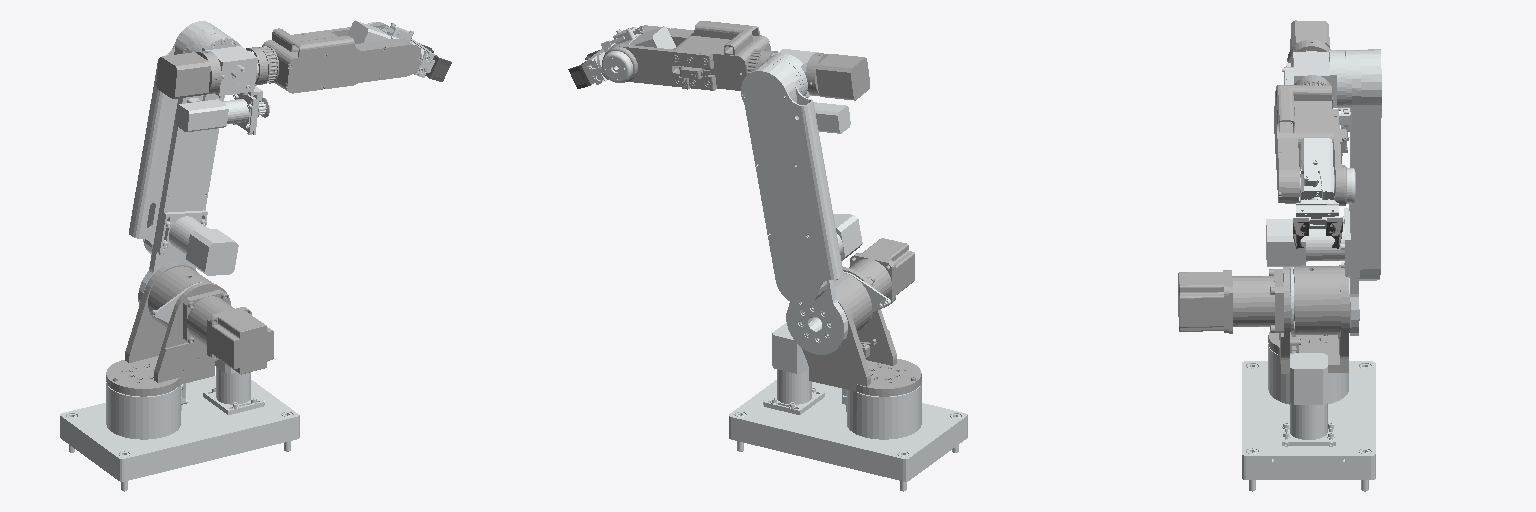
The robot description file, URDF, robot "AR2_Robot_Assembly":
<?xml version="1.0" encoding="utf-8"?>
<!-- This URDF was automatically created by SolidWorks to URDF Exporter! Originally created by [author] ([email redacted]) 
     Commit Version: 1.6.0-1-g15f4949  Build Version: 1.6.7594.29634
     For more information, please see http://wiki.ros.org/sw_urdf_exporter -->
<robot
  name="AR2_Robot_Assembly">
  <link
    name="Base">
    <inertial>
      <origin
        xyz="-0.00121164895533463 2.07098250545094E-07 0.0328380871448753"
        rpy="0 0 0" />
      <mass
        value="1.83399446560583" />
      <inertia
        ixx="0.00350534103411268"
        ixy="-1.31663156810717E-08"
        ixz="-6.3405344464182E-06"
        iyy="0.00791941936280033"
        iyz="1.28083660702137E-08"
        izz="0.0111560797891637" />
    </inertial>
    <visual>
      <origin
        xyz="0 0 0"
        rpy="0 0 0" />
      <geometry>
        <mesh
          filename="package://AR2_Robot_Assembly/meshes/Base.STL" />
      </geometry>
      <material
        name="">
        <color
          rgba="0.898039215686275 0.917647058823529 0.929411764705882 1" />
      </material>
    </visual>
    <collision>
      <origin
        xyz="0 0 0"
        rpy="0 0 0" />
      <geometry>
        <mesh
          filename="package://AR2_Robot_Assembly/meshes/Base.STL" />
      </geometry>
    </collision>
  </link>
  <link
    name="L1">
    <inertial>
      <origin
        xyz="0.12487525667855 -0.0408021625555085 0.0167937490485617"
        rpy="0 0 0" />
      <mass
        value="1.52295278414476" />
      <inertia
        ixx="0.00106147834025078"
        ixy="7.49858454528818E-05"
        ixz="4.24902516948922E-06"
        iyy="0.000971051571509745"
        iyz="-1.92437757770649E-05"
        izz="0.00145415800060971" />
    </inertial>
    <visual>
      <origin
        xyz="0 0 0"
        rpy="0 0 0" />
      <geometry>
        <mesh
          filename="package://AR2_Robot_Assembly/meshes/L1.STL" />
      </geometry>
      <material
        name="">
        <color
          rgba="0.752941176470588 0.752941176470588 0.752941176470588 1" />
      </material>
    </visual>
    <collision>
      <origin
        xyz="0 0 0"
        rpy="0 0 0" />
      <geometry>
        <mesh
          filename="package://AR2_Robot_Assembly/meshes/L1.STL" />
      </geometry>
    </collision>
  </link>
  <joint
    name="J1"
    type="continuous">
    <origin
      xyz="-0.05 0 0"
      rpy="1.59755657853939 -1.5707963267949 0" />
    <parent
      link="Base" />
    <child
      link="L1" />
    <axis
      xyz="1 0 0" />
  </joint>
  <link
    name="L2">
    <inertial>
      <origin
        xyz="-0.00211704587004305 0.0398735511195314 0.124599025945675"
        rpy="0 0 0" />
      <mass
        value="1.1166195134316" />
      <inertia
        ixx="0.00728563003630464"
        ixy="-4.43939252747027E-06"
        ixz="-1.43551743455091E-05"
        iyy="0.00763761954402657"
        iyz="2.68568009440616E-06"
        izz="0.000518214918102316" />
    </inertial>
    <visual>
      <origin
        xyz="0 0 0"
        rpy="0 0 0" />
      <geometry>
        <mesh
          filename="package://AR2_Robot_Assembly/meshes/L2.STL" />
      </geometry>
      <material
        name="">
        <color
          rgba="0.898039215686275 0.917647058823529 0.929411764705882 1" />
      </material>
    </visual>
    <collision>
      <origin
        xyz="0 0 0"
        rpy="0 0 0" />
      <geometry>
        <mesh
          filename="package://AR2_Robot_Assembly/meshes/L2.STL" />
      </geometry>
    </collision>
  </link>
  <joint
    name="J2"
    type="continuous">
    <origin
      xyz="0.17 -0.0650000000000003 0"
      rpy="-1.5707963267949 0 -1.75809063330228" />
    <parent
      link="L1" />
    <child
      link="L2" />
    <axis
      xyz="0 1 0" />
  </joint>
  <link
    name="L3">
    <inertial>
      <origin
        xyz="-0.000244537314644855 0.012731589759984 0.0154262557358643"
        rpy="0 0 0" />
      <mass
        value="0.395085878797633" />
      <inertia
        ixx="0.000138211386235337"
        ixy="-1.66278840859845E-08"
        ixz="9.02175009302586E-06"
        iyy="0.000162049147380867"
        iyz="-6.41672656962559E-08"
        izz="0.000141687034356625" />
    </inertial>
    <visual>
      <origin
        xyz="0 0 0"
        rpy="0 0 0" />
      <geometry>
        <mesh
          filename="package://AR2_Robot_Assembly/meshes/L3.STL" />
      </geometry>
      <material
        name="">
        <color
          rgba="0.898039215686275 0.917647058823529 0.929411764705882 1" />
      </material>
    </visual>
    <collision>
      <origin
        xyz="0 0 0"
        rpy="0 0 0" />
      <geometry>
        <mesh
          filename="package://AR2_Robot_Assembly/meshes/L3.STL" />
      </geometry>
    </collision>
  </link>
  <joint
    name="J3"
    type="continuous">
    <origin
      xyz="0 0 0.305"
      rpy="3.14159265358979 0.0672538576352078 3.14159265358979" />
    <parent
      link="L2" />
    <child
      link="L3" />
    <axis
      xyz="0 1 0" />
  </joint>
  <link
    name="L4">
    <inertial>
      <origin
        xyz="-0.000473999208889631 -0.00114833241906349 0.0819424028270787"
        rpy="0 0 0" />
      <mass
        value="0.746226543160533" />
      <inertia
        ixx="0.00111110796079451"
        ixy="6.1002801491323E-06"
        ixz="-1.93666240979563E-05"
        iyy="0.00118629067570245"
        iyz="6.2712787736513E-06"
        izz="0.000233454321215929" />
    </inertial>
    <visual>
      <origin
        xyz="0 0 0"
        rpy="0 0 0" />
      <geometry>
        <mesh
          filename="package://AR2_Robot_Assembly/meshes/L4.STL" />
      </geometry>
      <material
        name="">
        <color
          rgba="0.752941176470588 0.752941176470588 0.752941176470588 1" />
      </material>
    </visual>
    <collision>
      <origin
        xyz="0 0 0"
        rpy="0 0 0" />
      <geometry>
        <mesh
          filename="package://AR2_Robot_Assembly/meshes/L4.STL" />
      </geometry>
    </collision>
  </link>
  <joint
    name="J4"
    type="continuous">
    <origin
      xyz="0 0 0"
      rpy="1.57079632679478 -1.54578109838187 -1.57079632679478" />
    <parent
      link="L3" />
    <child
      link="L4" />
    <axis
      xyz="0 0 1" />
  </joint>
  <link
    name="L5">
    <inertial>
      <origin
        xyz="-0.0021007481896046 -0.00486751874924897 0.00723597428128814"
        rpy="0 0 0" />
      <mass
        value="0.158906404548327" />
      <inertia
        ixx="4.07896768924961E-05"
        ixy="-2.53946870292352E-08"
        ixz="-1.9750241833246E-07"
        iyy="3.41282492412699E-05"
        iyz="9.13773281678336E-09"
        izz="4.14868138146694E-05" />
    </inertial>
    <visual>
      <origin
        xyz="0 0 0"
        rpy="0 0 0" />
      <geometry>
        <mesh
          filename="package://AR2_Robot_Assembly/meshes/L5.STL" />
      </geometry>
      <material
        name="">
        <color
          rgba="0.898039215686275 0.917647058823529 0.929411764705882 1" />
      </material>
    </visual>
    <collision>
      <origin
        xyz="0 0 0"
        rpy="0 0 0" />
      <geometry>
        <mesh
          filename="package://AR2_Robot_Assembly/meshes/L5.STL" />
      </geometry>
    </collision>
  </link>
  <joint
    name="J5"
    type="continuous">
    <origin
      xyz="0 0 0.225000000000021"
      rpy="3.14159265358979 0.121091356356039 0" />
    <parent
      link="L4" />
    <child
      link="L5" />
    <axis
      xyz="0 1 0" />
  </joint>
  <link
    name="L6">
    <inertial>
      <origin
        xyz="0.000275865540538166 -0.579263055138452 -0.159975439683243"
        rpy="0 0 0" />
      <mass
        value="0.0211407817617659" />
      <inertia
        ixx="1.57969109677341E-06"
        ixy="-1.50371856092832E-13"
        ixz="-8.74200795058275E-10"
        iyy="2.85086770514729E-06"
        iyz="-6.03343862878627E-14"
        izz="4.01268710409119E-06" />
    </inertial>
    <visual>
      <origin
        xyz="0 0 0"
        rpy="0 0 0" />
      <geometry>
        <mesh
          filename="package://AR2_Robot_Assembly/meshes/L6.STL" />
      </geometry>
      <material
        name="">
        <color
          rgba="0.898039215686275 0.917647058823529 0.929411764705882 1" />
      </material>
    </visual>
    <collision>
      <origin
        xyz="0 0 0"
        rpy="0 0 0" />
      <geometry>
        <mesh
          filename="package://AR2_Robot_Assembly/meshes/L6.STL" />
      </geometry>
    </collision>
  </link>
  <joint
    name="J6"
    type="continuous">
    <origin
      xyz="0.524092236977914 -0.0135149910761031 0.27802151031714"
      rpy="0.269471943536877 0.00634981555518375 -1.59378289765441" />
    <parent
      link="L5" />
    <child
      link="L6" />
    <axis
      xyz="0 0 1" />
  </joint>
  <link
    name="EF">
    <inertial>
      <origin
        xyz="0.00980000083687808 0.00276878348986728 -0.0135000004664999"
        rpy="0 0 0" />
      <mass
        value="0.0131134330814085" />
      <inertia
        ixx="1.49139305999371E-06"
        ixy="-4.0606616892051E-14"
        ixz="6.33926227541485E-12"
        iyy="1.09755190396397E-06"
        iyz="8.96582540657781E-14"
        izz="8.74083654440223E-07" />
    </inertial>
    <visual>
      <origin
        xyz="0 0 0"
        rpy="0 0 0" />
      <geometry>
        <mesh
          filename="package://AR2_Robot_Assembly/meshes/EF.STL" />
      </geometry>
      <material
        name="">
        <color
          rgba="0.498039215686275 0.498039215686275 0.498039215686275 1" />
      </material>
    </visual>
    <collision>
      <origin
        xyz="0 0 0"
        rpy="0 0 0" />
      <geometry>
        <mesh
          filename="package://AR2_Robot_Assembly/meshes/EF.STL" />
      </geometry>
    </collision>
  </link>
  <joint
    name="EF"
    type="fixed">
    <origin
      xyz="-0.00949999524239368 -0.565861119660865 -0.188320757924126"
      rpy="-1.5707963267949 0 0" />
    <parent
      link="L6" />
    <child
      link="EF" />
    <axis
      xyz="0 0 0" />
    <limit
      lower="0"
      upper="0"
      effort="0"
      velocity="0" />
  </joint>
</robot>

--- Render facts (derived) ---
The picture shows the robot from 3 angles, left to right: view 1: azimuth 30°, elevation 25°; view 2: azimuth 150°, elevation 25°; view 3: azimuth 270°, elevation 25°; orthographic projection.
Model AR2_Robot_Assembly with 8 links and 7 joints (6 continuous, 1 fixed), rooted at Base, posed all joints at 0.
Visible links, largest first — view 1: Base, L2, L1, L4, L3, L5; view 2: L2, Base, L4, L1, L5, L3; view 3: Base, L1, L2, L4, L5, L3, L6, EF.
Boxes of the visible links, x1,y1,x2,y2 form: Base: (60,360,299,491); L2: (129,21,238,322); L1: (106,262,273,396); L4: (156,22,421,98); L3: (175,33,269,134); L5: (348,20,414,44); L2: (741,59,890,354); Base: (729,323,967,491); L4: (603,21,869,100); L1: (801,238,921,396); L5: (601,26,675,82); L3: (766,49,850,133); Base: (1242,344,1375,491); L1: (1178,265,1349,373); L2: (1266,49,1381,335); L4: (1274,20,1349,205); L5: (1300,138,1355,203); L3: (1282,50,1349,124); L6: (1296,197,1338,228); EF: (1293,218,1342,248).
Size in the robot's own frame: 0.495 by 0.2274 by 0.5203 metres.
Meshes: 8 distinct files referenced, 8 mesh visuals loaded (8 binary STL).